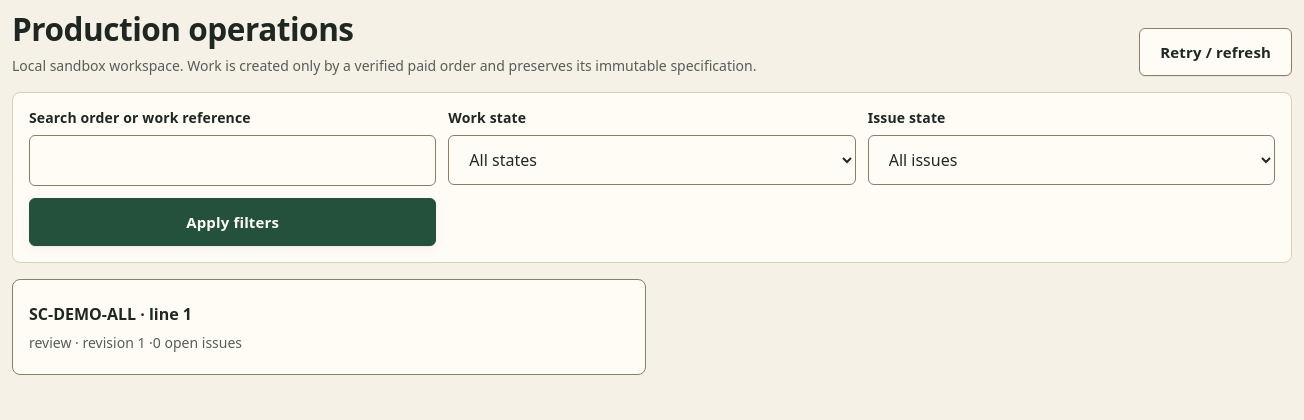
Scenario: operations shows the latest filter's answer and drops an earlier one
This screenshot has width=1304, height=420.
Expected: the button "SC-DEMO-ALL · line 1 review · revision 1 ·0 open issues" is shown, [12,279,646,375]
Select "review" in the dropdown labelled "Work state" at (652, 160), box [448,135,856,185]
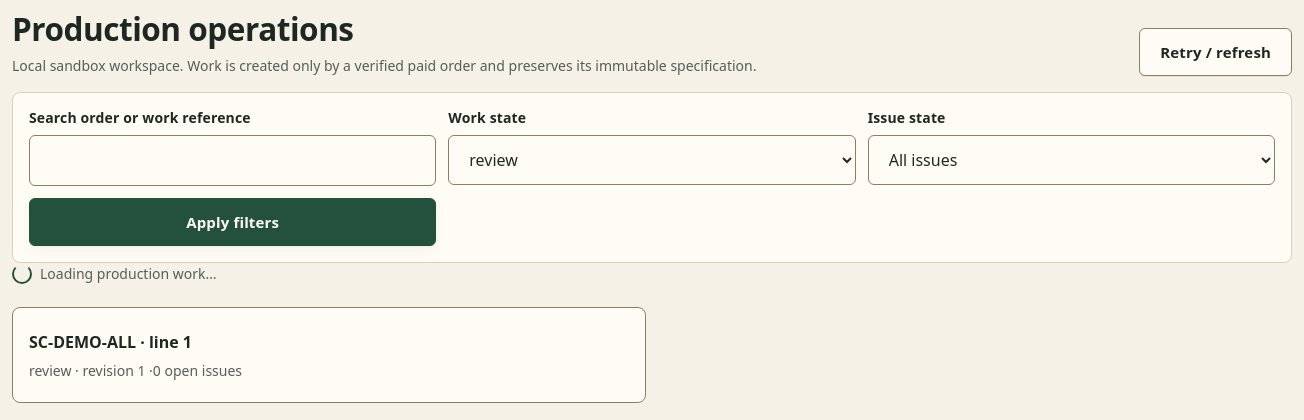
Expected: the button "SC-DEMO-ALL · line 1 review · revision 1 ·0 open issues" is shown, [12,307,646,403]
Now the text "Loading production work…" is shown, box [40,263,217,284]
Select "approved" in the dropdown labelled "Work state" at (652, 160), box [448,135,856,185]
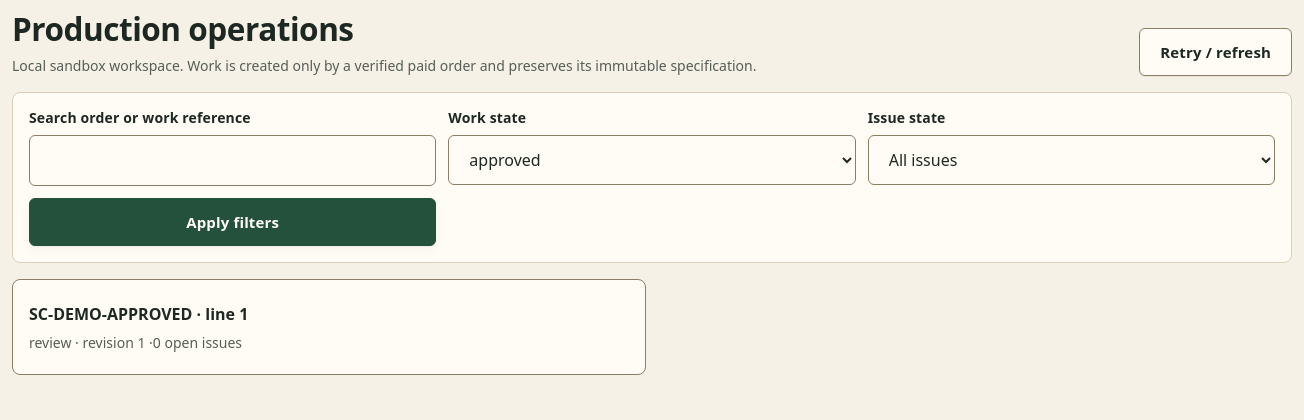
Now the button "SC-DEMO-APPROVED · line 1 review · revision 1 ·0 open issues" is shown, box [12,279,646,375]
